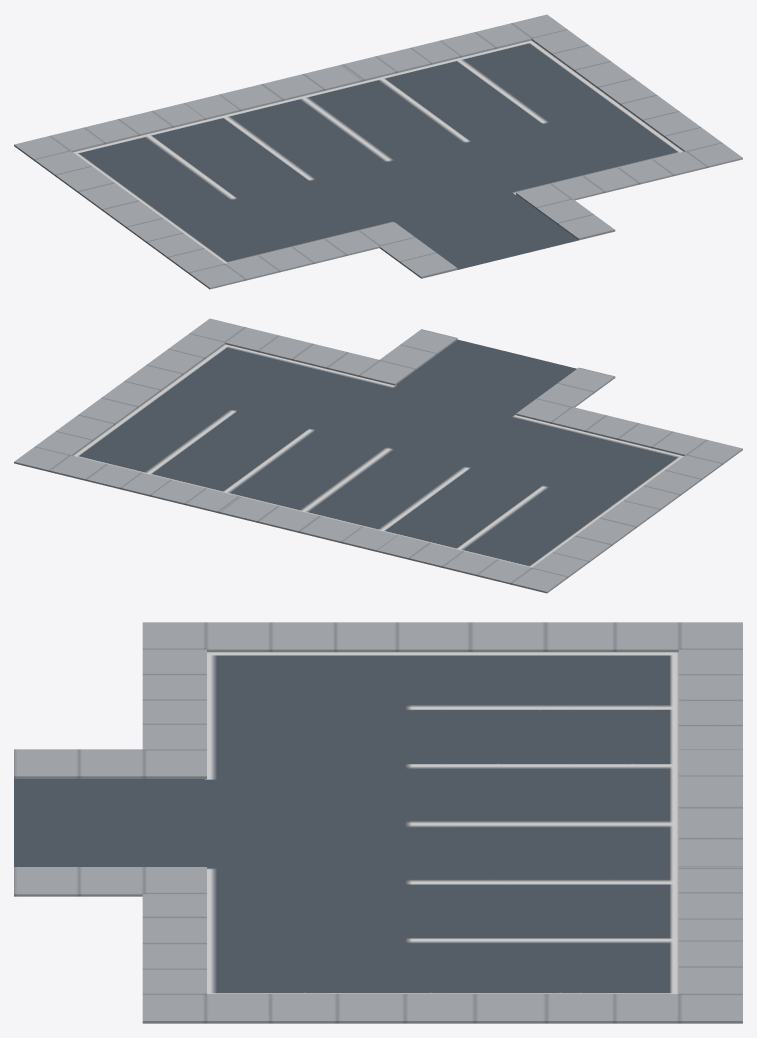
Rendered from parking1.fbx.
The picture shows the model from 3 angles, top to bottom: view 1: azimuth 30°, elevation 25°; view 2: azimuth 150°, elevation 25°; view 3: azimuth 270°, elevation 25°; orthographic projection. The views are drawn at different scales.
Visible parts, largest first — view 1: sptp_road_segment_04; view 2: sptp_road_segment_04; view 3: sptp_road_segment_04.
Boxes of the visible parts, <box> form: sptp_road_segment_04: <box>14,14,742,289</box>; sptp_road_segment_04: <box>14,318,742,593</box>; sptp_road_segment_04: <box>14,622,742,1023</box>.
Bounding box in the file's own units: 4400 × 12.77 × 3400.
Materials: 1 (1 with a texture image).
